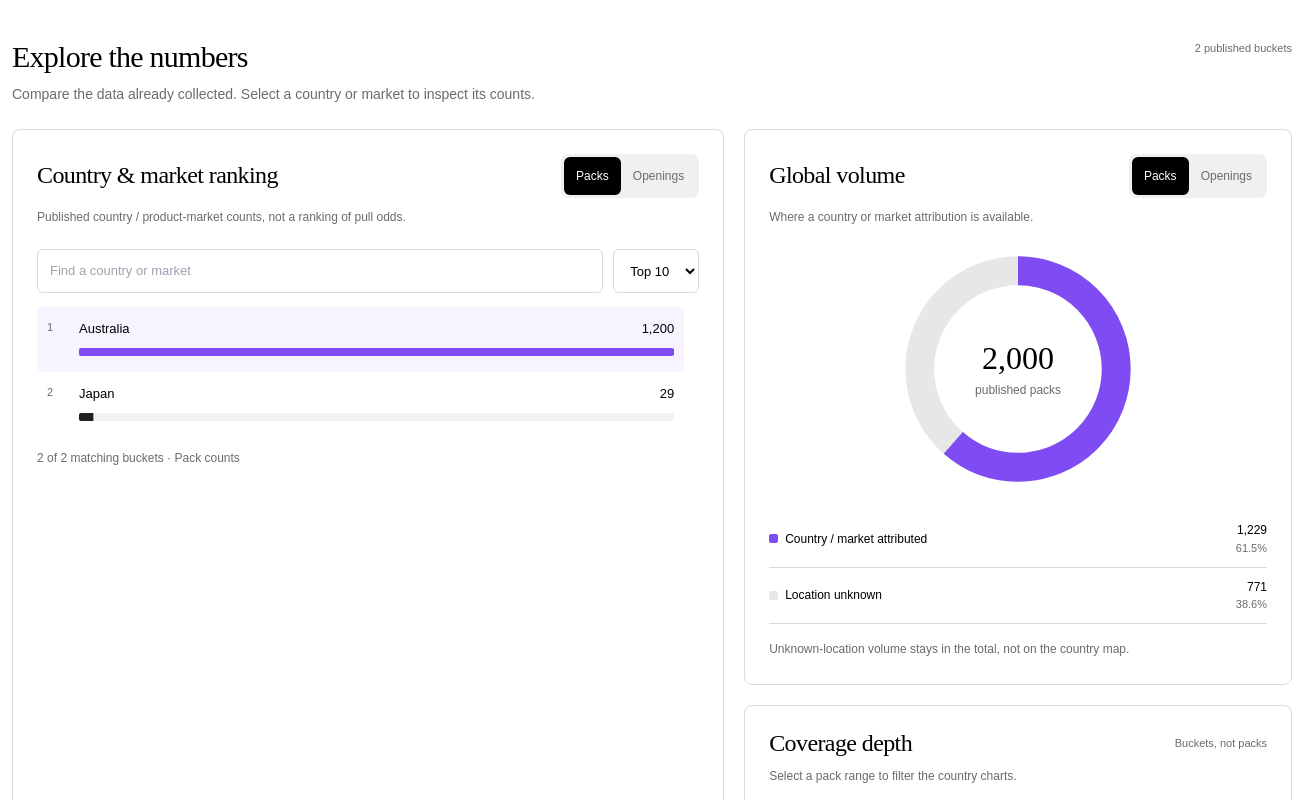
Test: OverviewCharts interactions › switches count metrics and filters the actual published rows
Expected: the list item "1 Australia 1,200" is shown, [37,307,684,372]
Click the button "Openings" in the row of "Country & market ranking" at [658, 176], box [621,157,696,195]
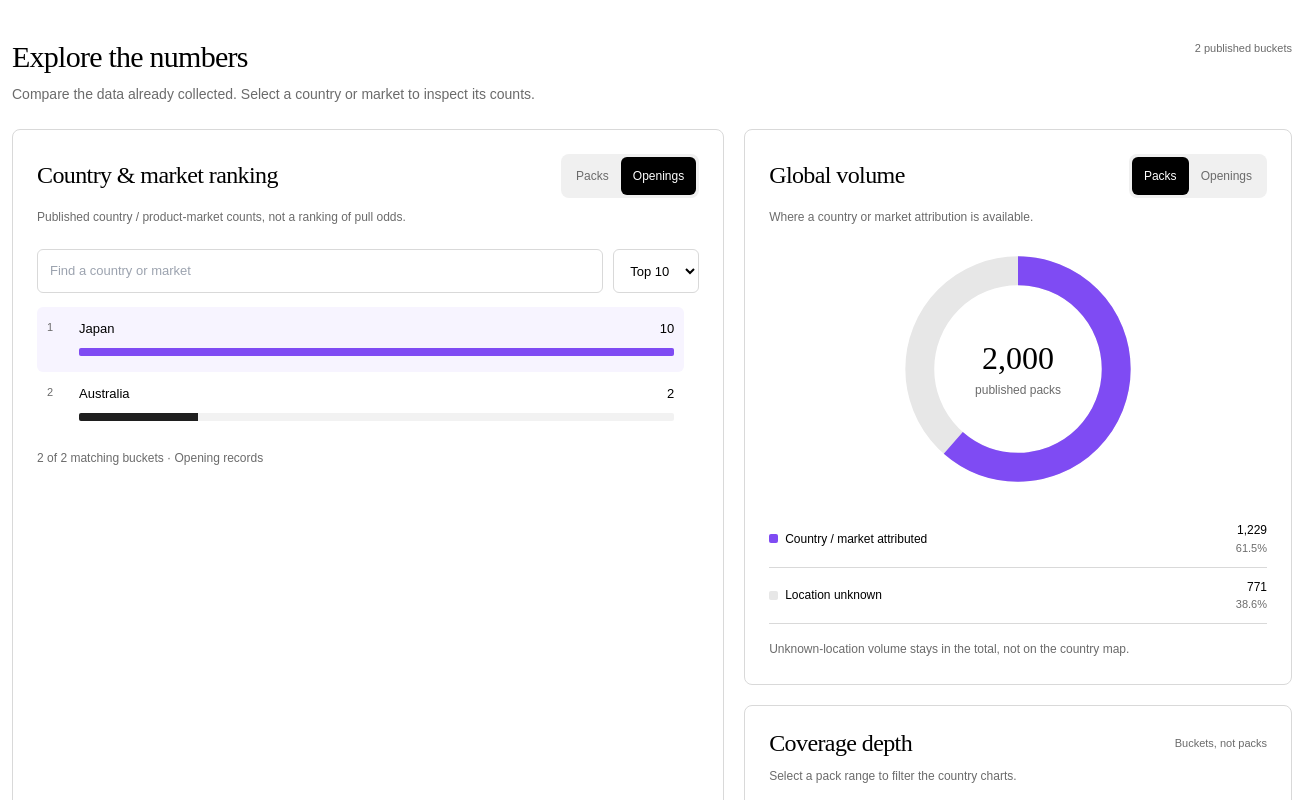
Expected: the list item "1 Japan 10" is shown, [37,307,684,372]
Type "AU" into the search field labelled "Find a country or market" at [320, 271], box [37,249,603,293]
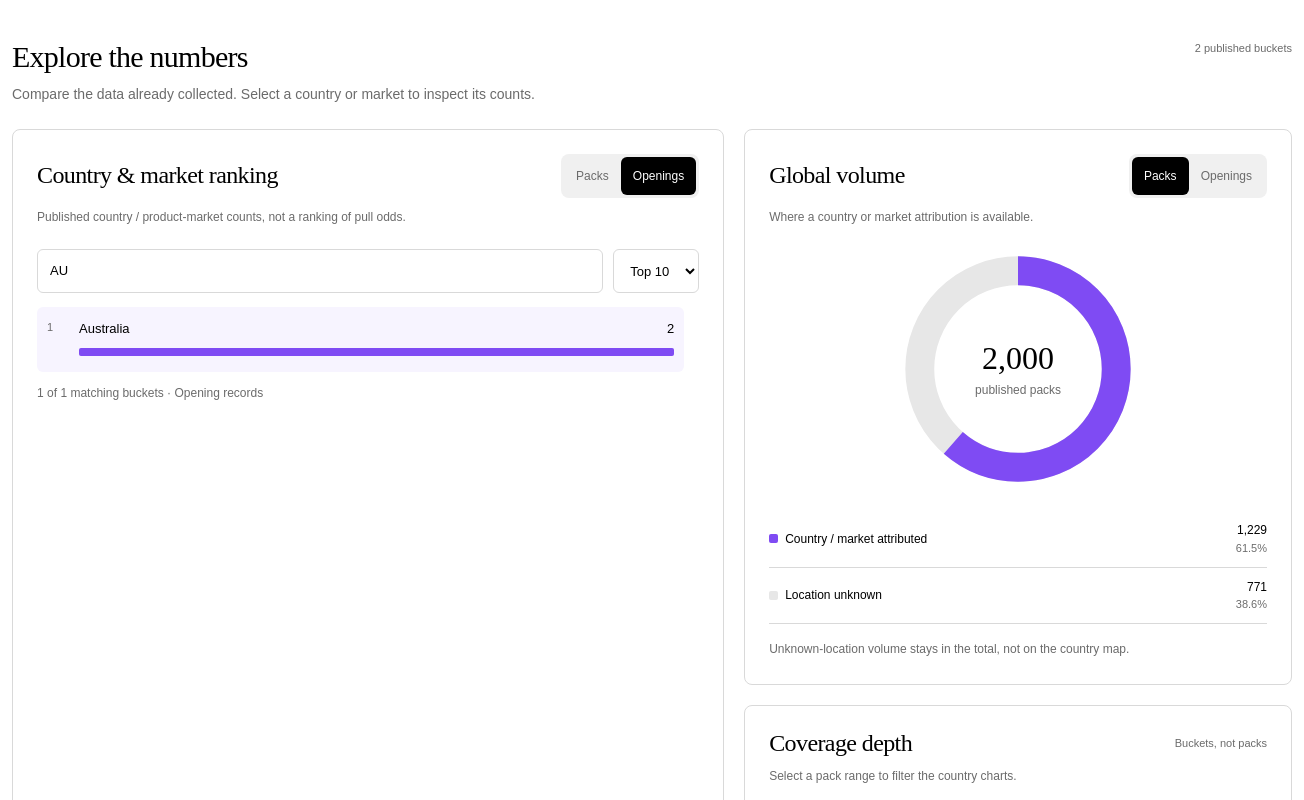
Result: the number of list items is 1 at [37,307,684,372]
